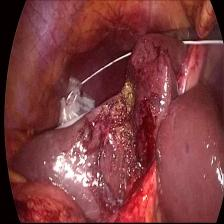Specimen Bag: (55, 51, 132, 133)
